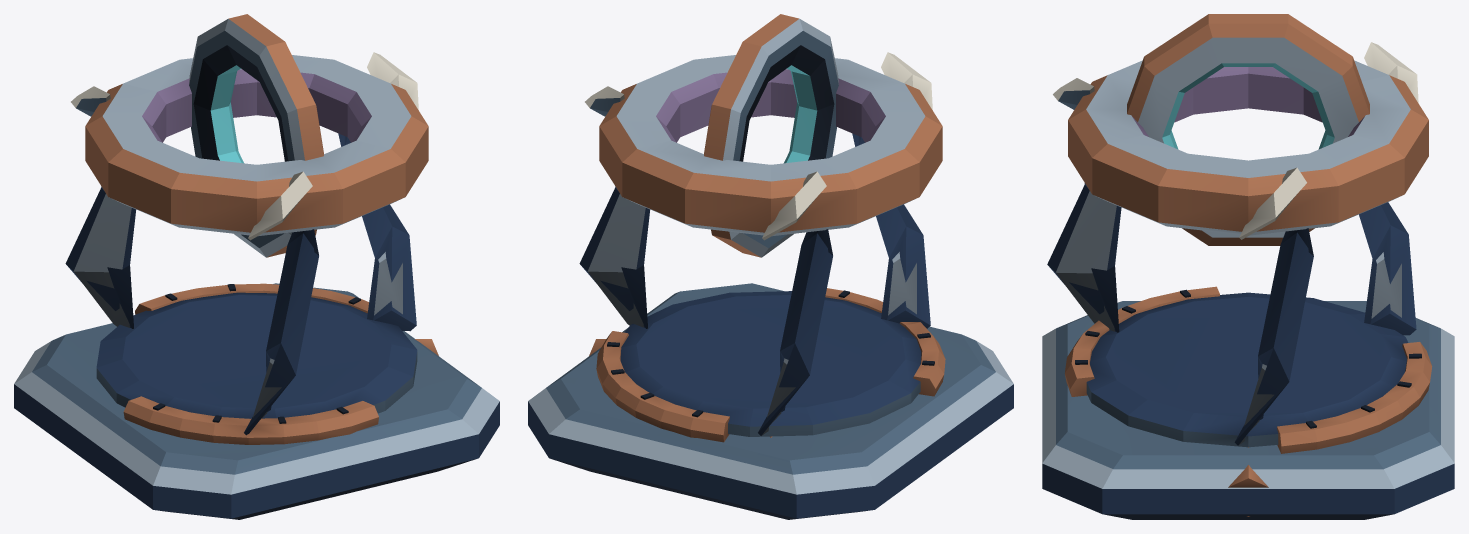
Rendered from mobileTeleporter.glb.
3 views of the same model, side by side, from view 1: azimuth 30°, elevation 25°; view 2: azimuth 150°, elevation 25°; view 3: azimuth 270°, elevation 25° (orthographic). The views are drawn at different scales.
Parts seen in each view (by area): view 1: mobileTeleporter; view 2: mobileTeleporter; view 3: mobileTeleporter.
Boxes of the visible parts, x1,y1,x2,y2 form: mobileTeleporter: (14,14,499,519); mobileTeleporter: (528,14,1013,519); mobileTeleporter: (1042,14,1454,519).
Bounding box in the file's own units: 0.9841 × 1.1 × 0.96.
